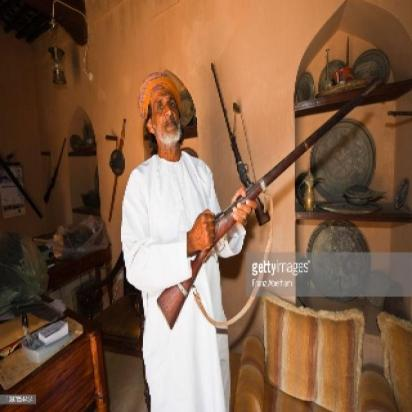Gun: (159, 79, 374, 325), (207, 57, 272, 225)
